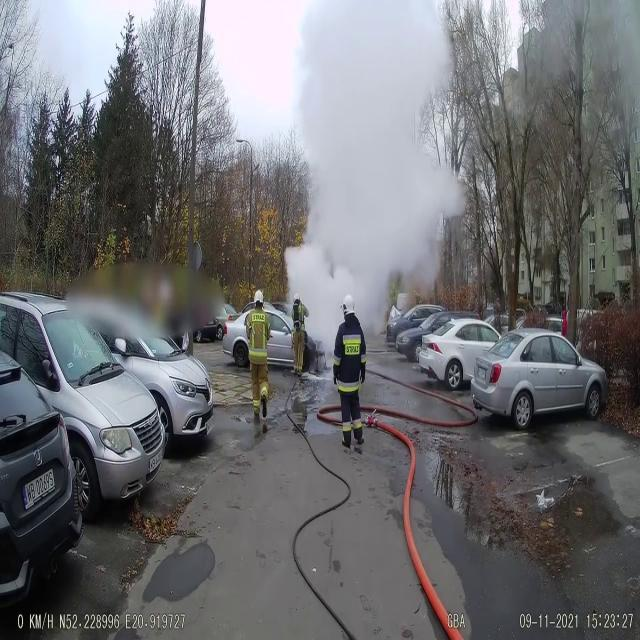Smoke: (284, 0, 460, 326)
